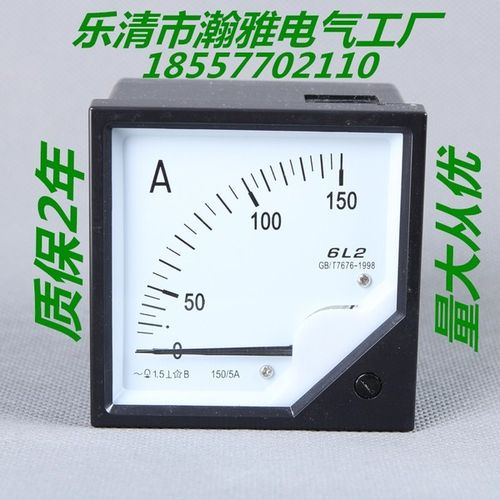pointer: (110, 127, 402, 406)
